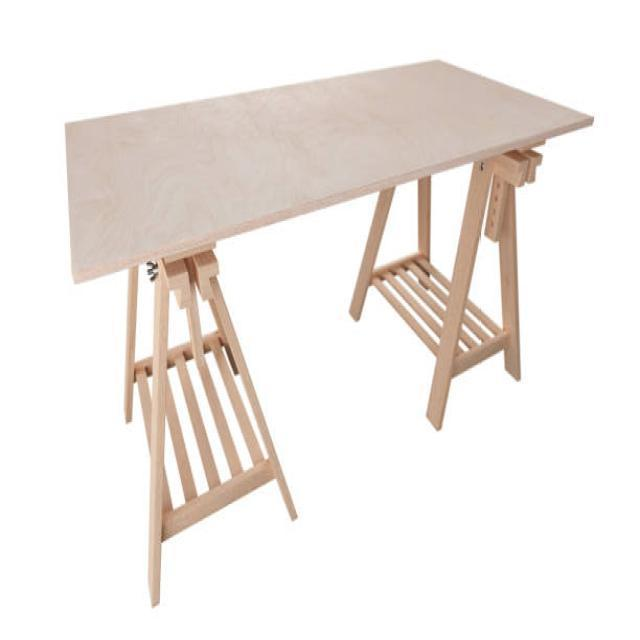table: (63, 56, 594, 606)
